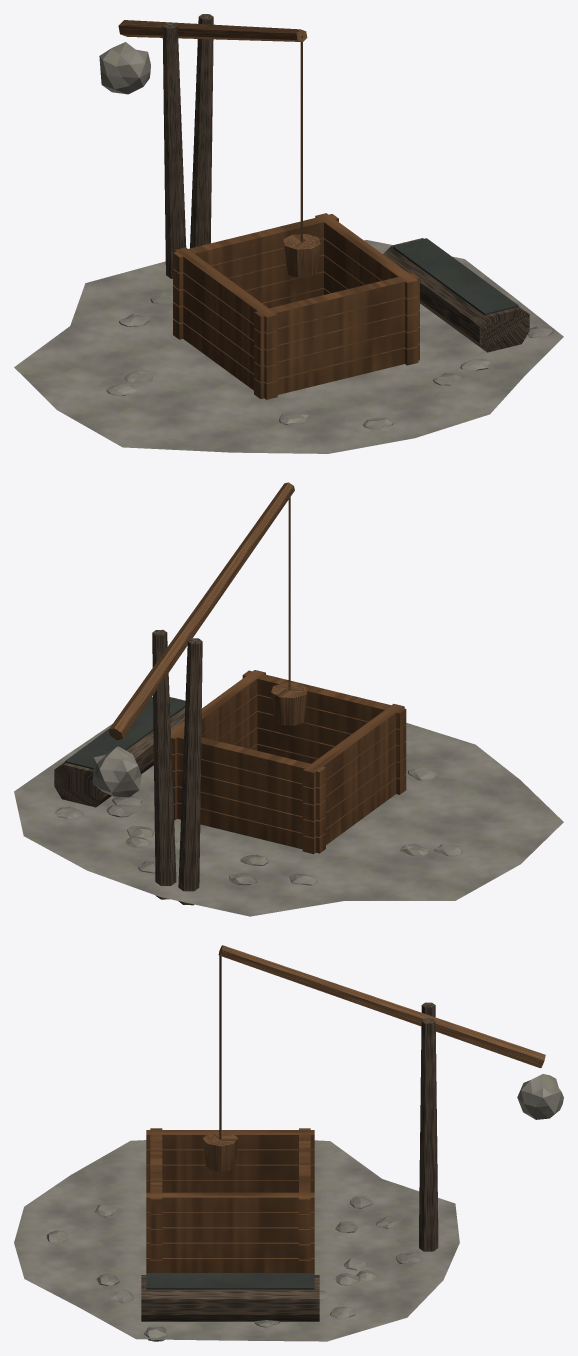
The model's file is pozzo.glb.
3 renders of one model, top to bottom at view 1: azimuth 30°, elevation 25°; view 2: azimuth 150°, elevation 25°; view 3: azimuth 270°, elevation 25°, orthographic. The views are drawn at different scales.
Parts seen in each view (by area): view 1: pozzo; view 2: pozzo; view 3: pozzo.
Part boxes in pixels (box(x1,y1,x2,y2)): pozzo: box(14, 14, 563, 453); pozzo: box(14, 482, 563, 916); pozzo: box(14, 945, 563, 1341).
Size of the model in its own units: 4.91 by 3.46 by 5.55.
Materials: 5 (5 with a texture image).
